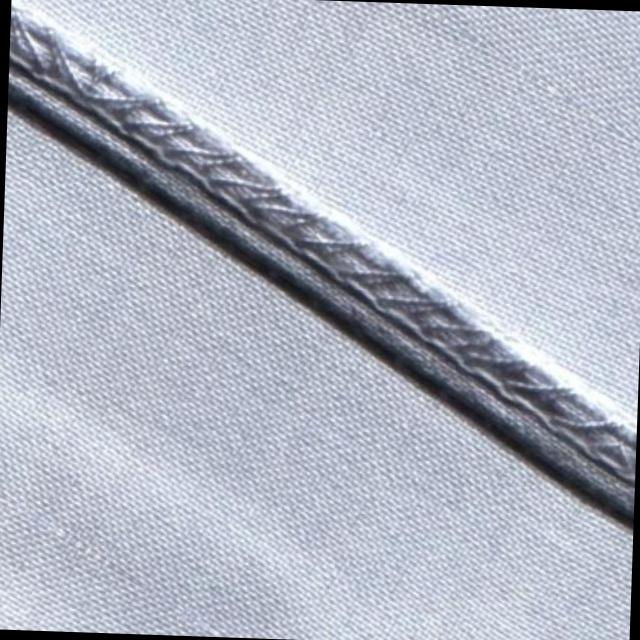gray stitch: (277, 200, 640, 513), (3, 14, 290, 258)
